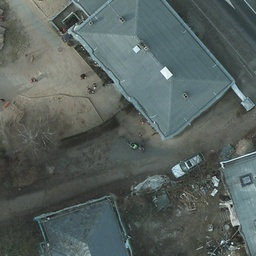car: (173, 152, 205, 177)
